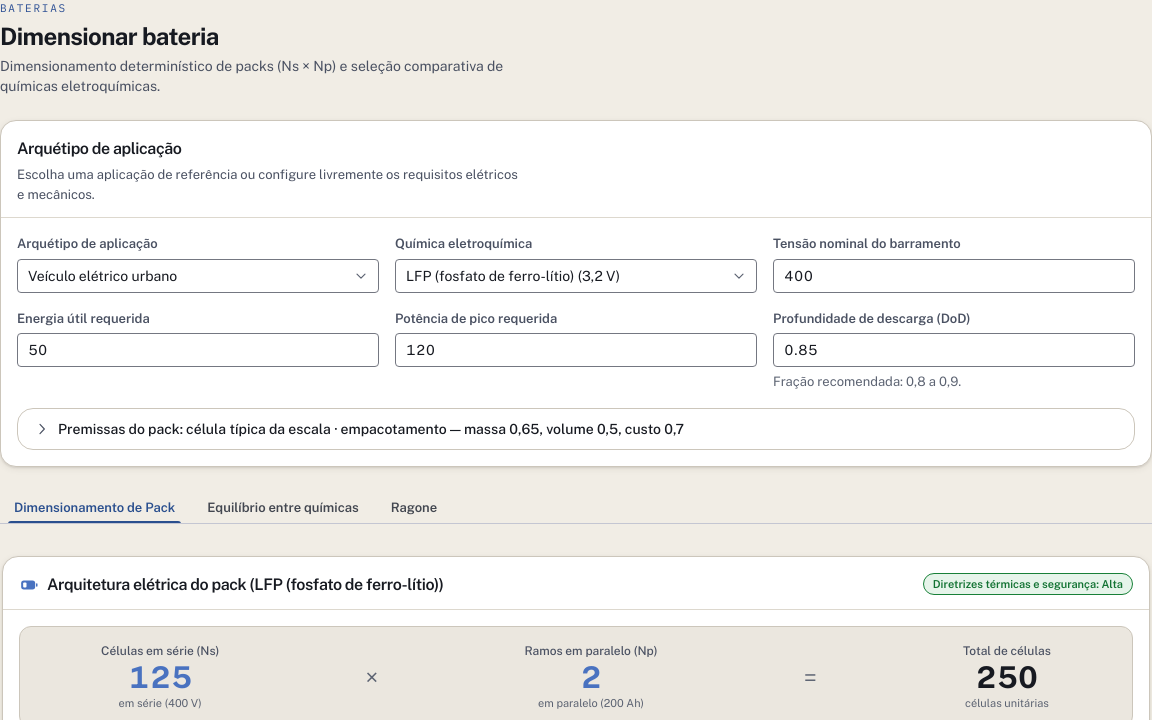
Test case: BateriasPage (dimensionamento de bateria) › navega para a aba de trade-offs e mostra o pódio e a tabela
The image size is (1152, 720).
Click the tab "Equilíbrio entre químicas" at (283, 508), box [193,491,373,524]
(page scrolled)
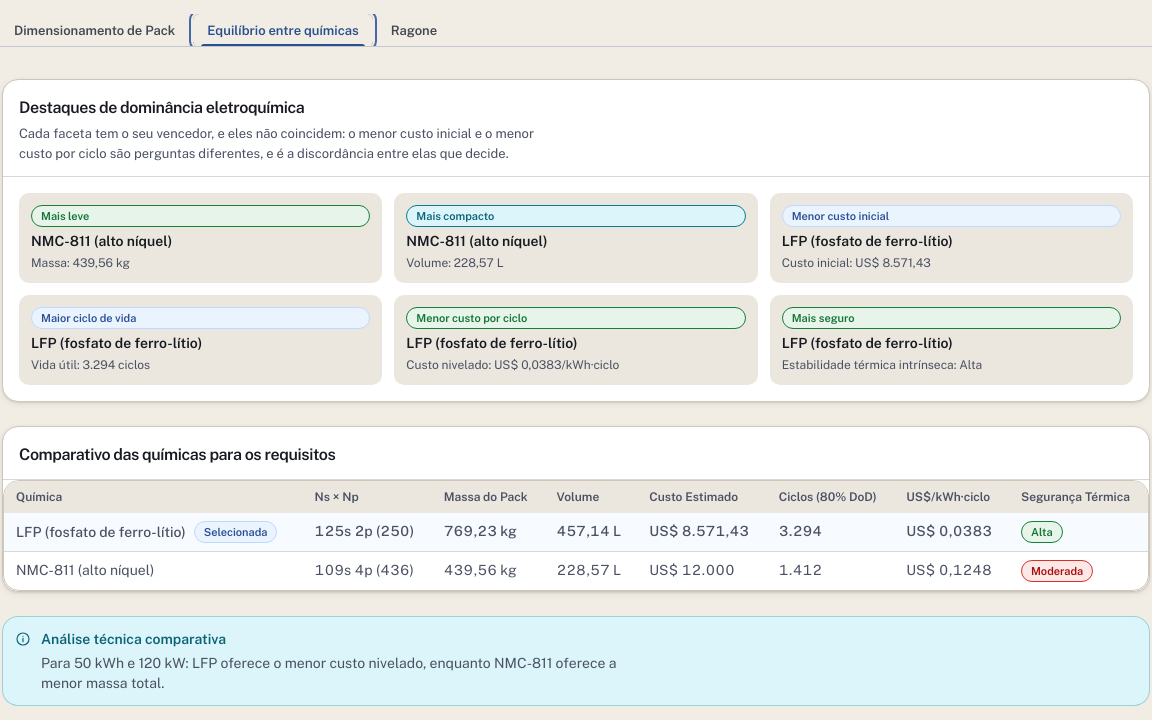
Expected: the text "Mais leve" is shown, [31,205,370,227]
Expected: the text "Menor custo inicial" is shown, [782,205,1121,227]
Expected: the text "Mais seguro" is shown, [782,307,1121,329]
